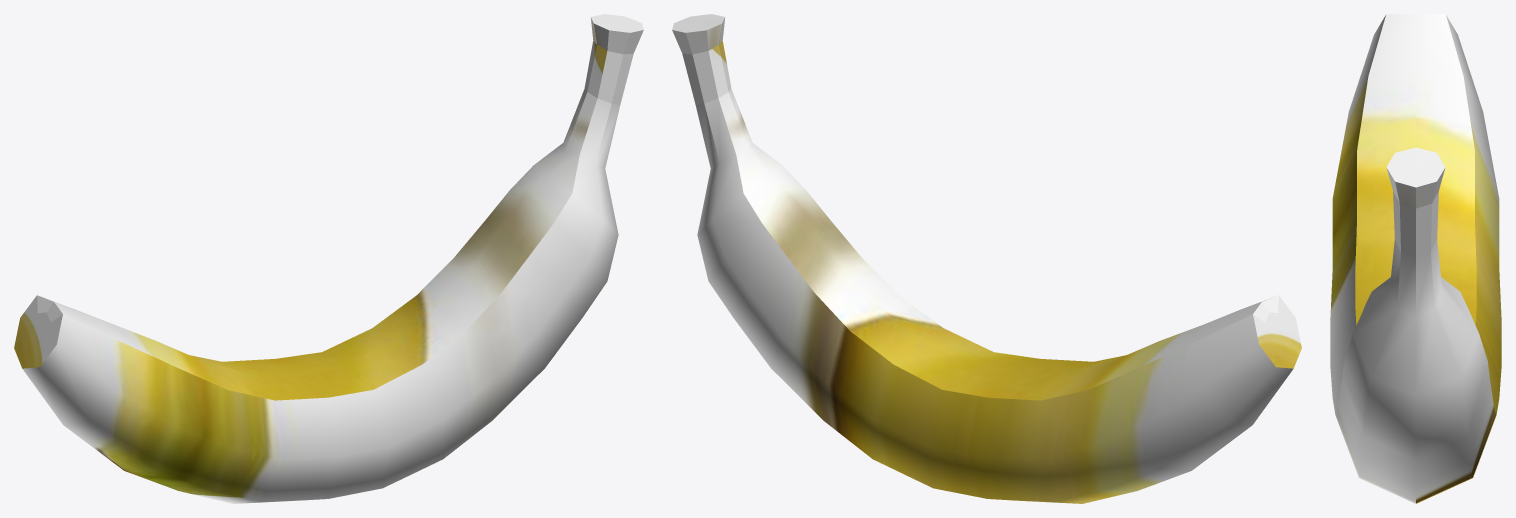
Rendered from banana.fbx.
3 renders of one model, left to right at view 1: azimuth 30°, elevation 25°; view 2: azimuth 150°, elevation 25°; view 3: azimuth 270°, elevation 25°, orthographic. The views are drawn at different scales.
Parts seen in each view (by area): view 1: banana; view 2: banana; view 3: banana.
Part boxes in pixels (x1,y1,x2,y2): banana: (14, 14, 643, 503); banana: (672, 14, 1301, 503); banana: (1330, 14, 1501, 503).
Bounding box in the file's own units: 8.45 × 5.33 × 1.77.
